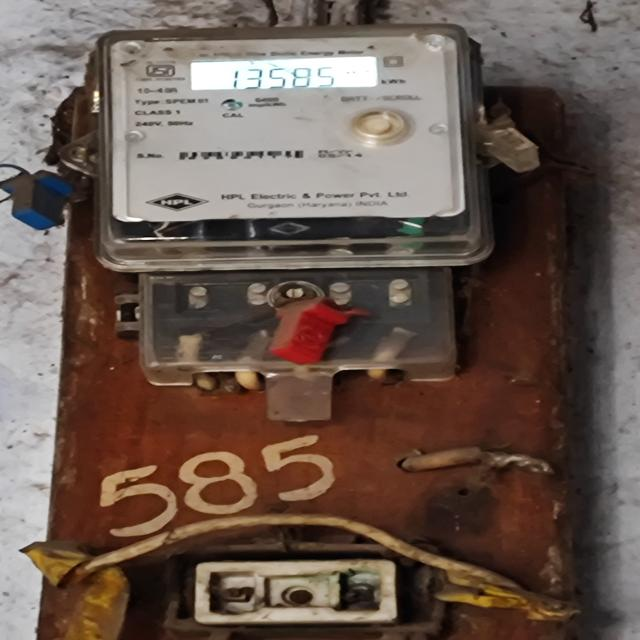display: (189, 58, 381, 93)
